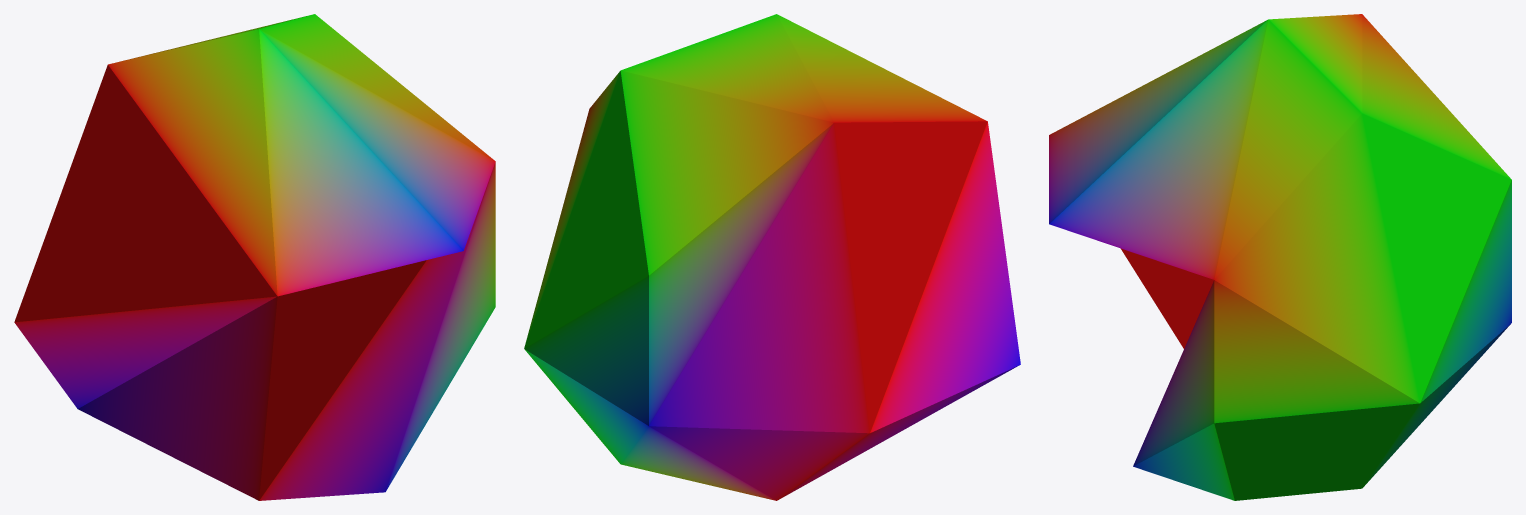
Rendered from before_decimating_conquest_4_4.obj.
3 renders of one model, left to right at view 1: azimuth 30°, elevation 25°; view 2: azimuth 150°, elevation 25°; view 3: azimuth 270°, elevation 25°, orthographic. The views are drawn at different scales.
Size of the model in its own units: 1.85 by 2 by 1.81.
